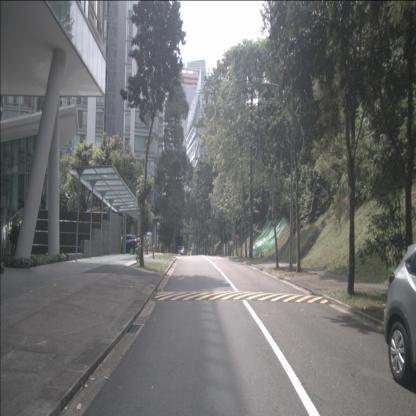barrier: (247, 248, 250, 257)
cone: (242, 250, 245, 258), (260, 249, 263, 257)
